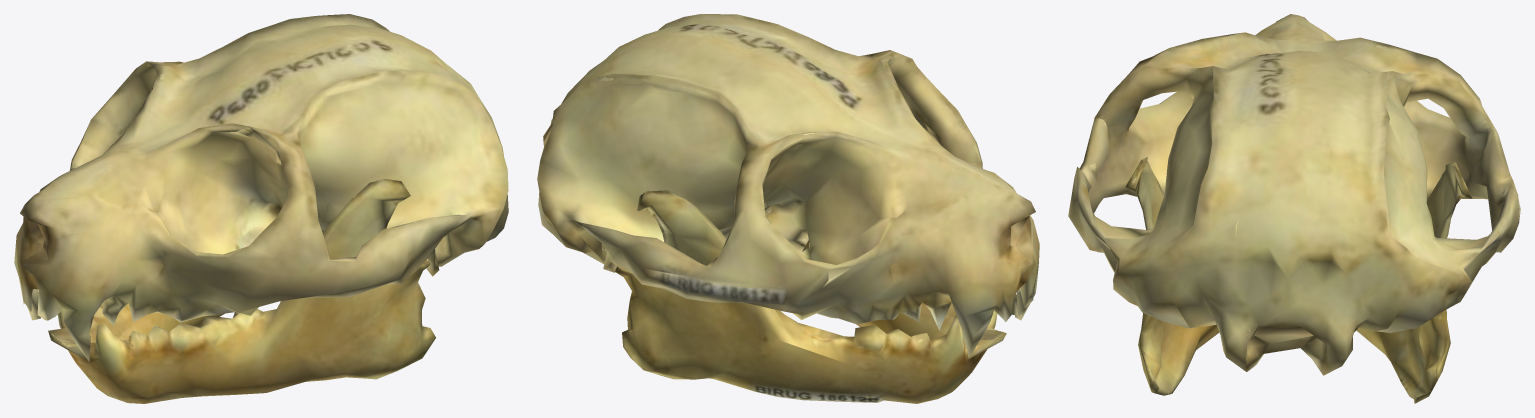
File: potto.glb
3 renders of one model, left to right at view 1: azimuth 30°, elevation 25°; view 2: azimuth 150°, elevation 25°; view 3: azimuth 270°, elevation 25°, orthographic. The views are drawn at different scales.
Visible parts, largest first — view 1: BIRUG 18612 Potto jaw-orig.001; view 2: BIRUG 18612 Potto jaw-orig.001; view 3: BIRUG 18612 Potto jaw-orig.001.
Boxes of the visible parts, box(x1,y1,x2,y2) form: BIRUG 18612 Potto jaw-orig.001: box(14, 14, 508, 403); BIRUG 18612 Potto jaw-orig.001: box(537, 14, 1039, 403); BIRUG 18612 Potto jaw-orig.001: box(1068, 14, 1520, 403).
Size of the model in its own units: 0.0601 by 0.0381 by 0.0474.
Materials: 2 (2 with a texture image).
